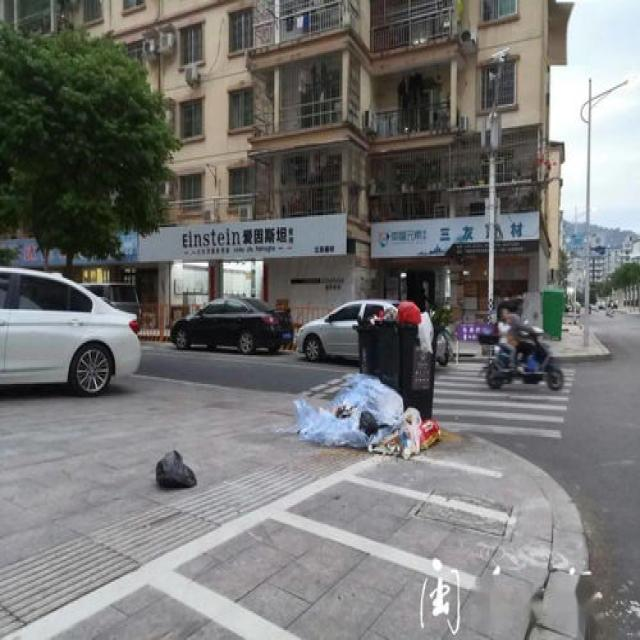garbage: (274, 372, 442, 457), (155, 449, 196, 485)
garbage_bin: (539, 285, 563, 336)
overflow: (352, 300, 435, 420)
